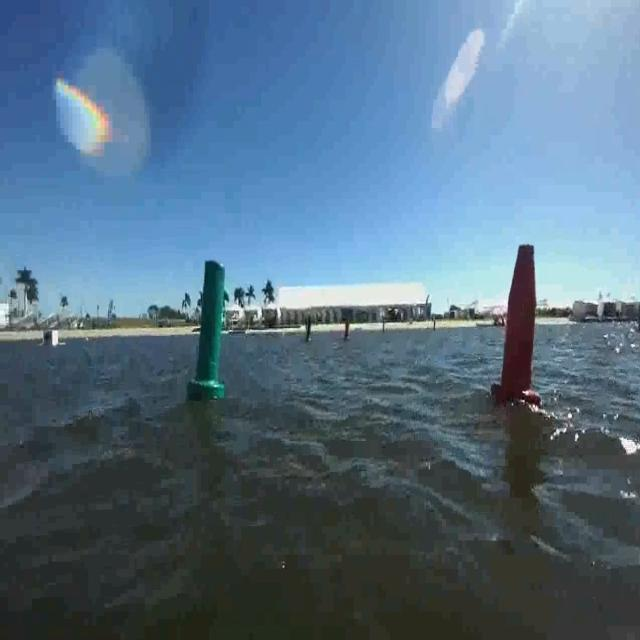green-column-buoy: (190, 260, 230, 401)
red-column-buoy: (492, 240, 543, 412)
